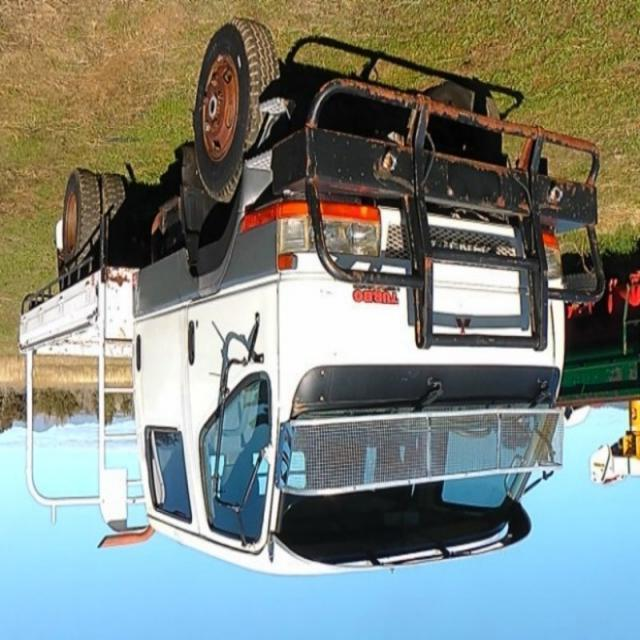truck: (24, 14, 603, 580)
